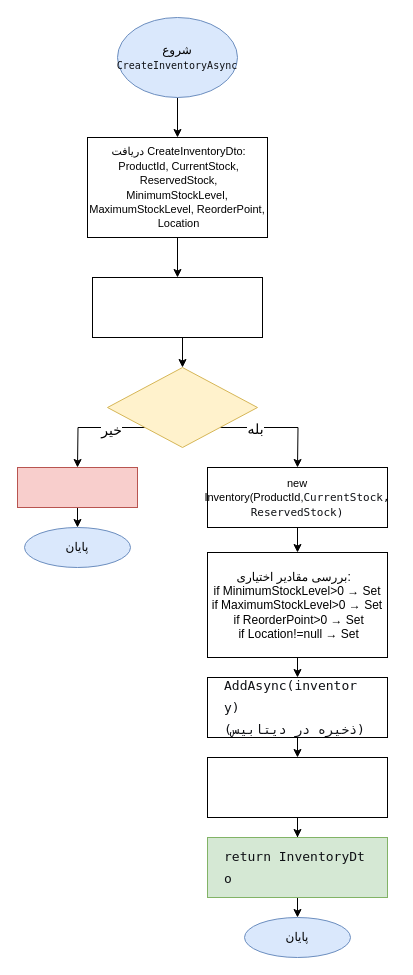
Image size: 413x975. Some labels were removed from this diagram. The shapes that lost their labels are listed below. From the top down, each one's box as (x1, y1, x2, y2) in pixels, then its label:
(92, 276, 262, 338): GetByIdAsync(ProductId) (بررسی وجود محصول)
(106, 366, 258, 448): محصول وجود دارد؟
(16, 466, 138, 508): throw NotFound Exception
(206, 756, 388, 818): MapToDto(created) (تبدیل به DTO)
